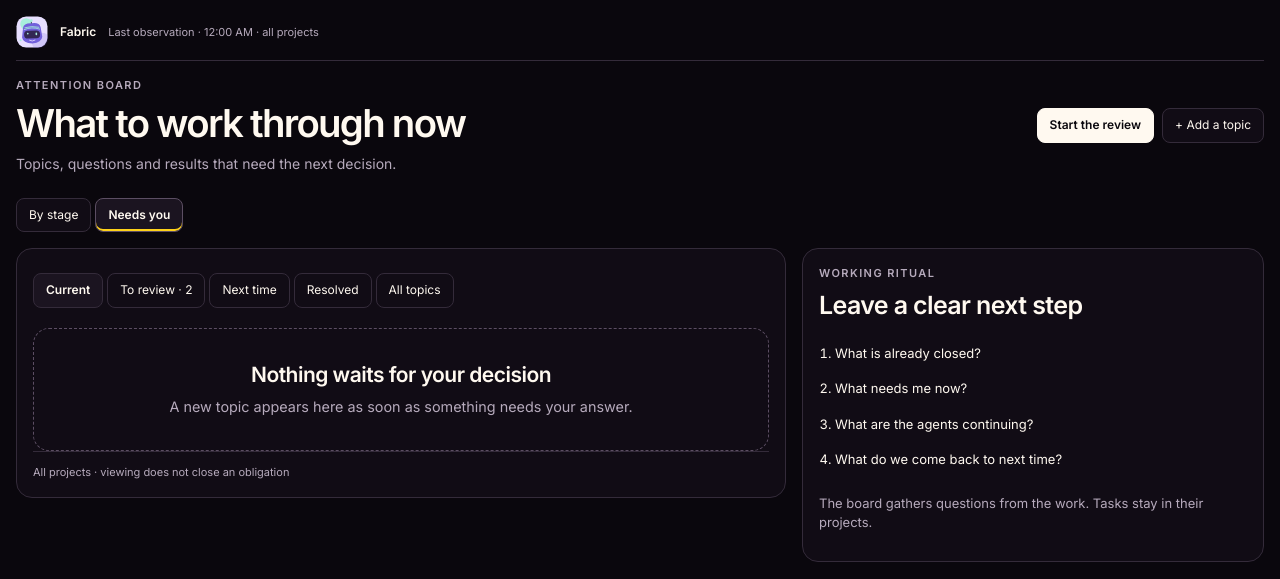
Test: an answer belongs to the row it was asked about › shows one proposal’s refusal on that proposal only
This screenshot has width=1280, height=579.
Click the button "To review · 2".
click(156, 291)  # box [107,273,206,308]
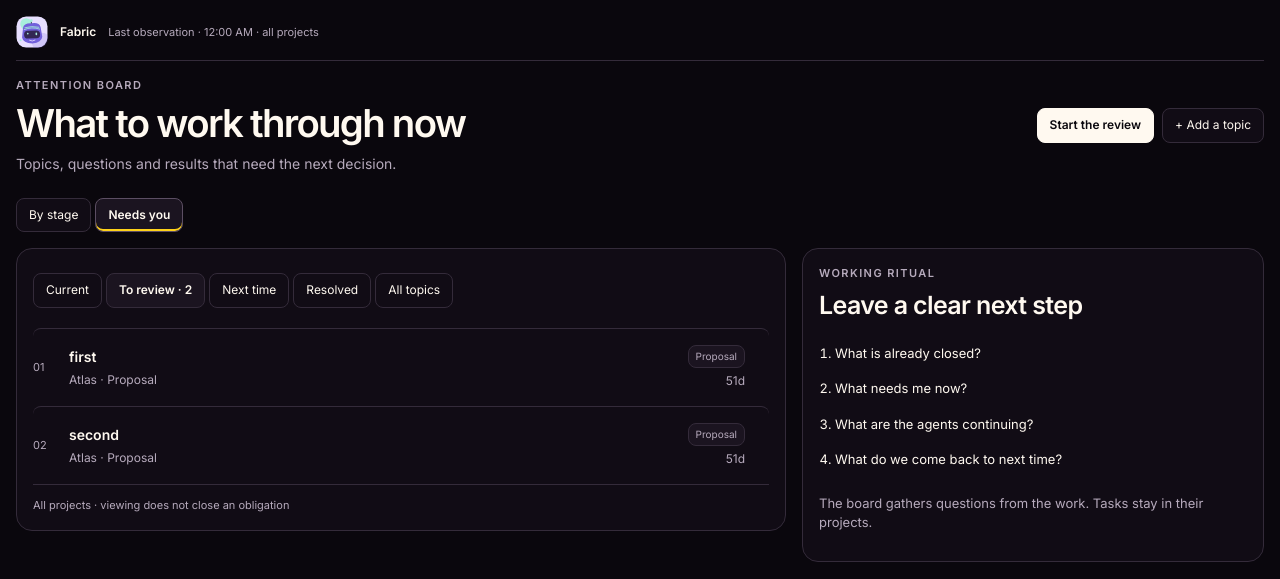
Click the text "first".
click(83, 357)  # box [69,348,96,365]
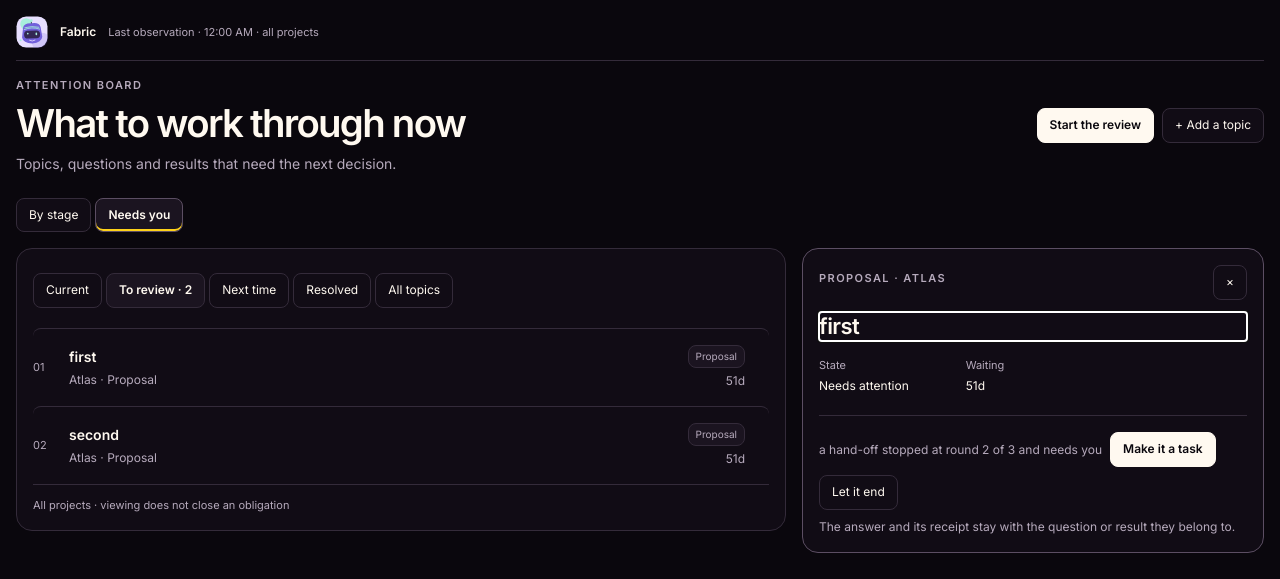
Click the button "Make it a task".
click(1163, 450)  # box [1110,432,1216,467]
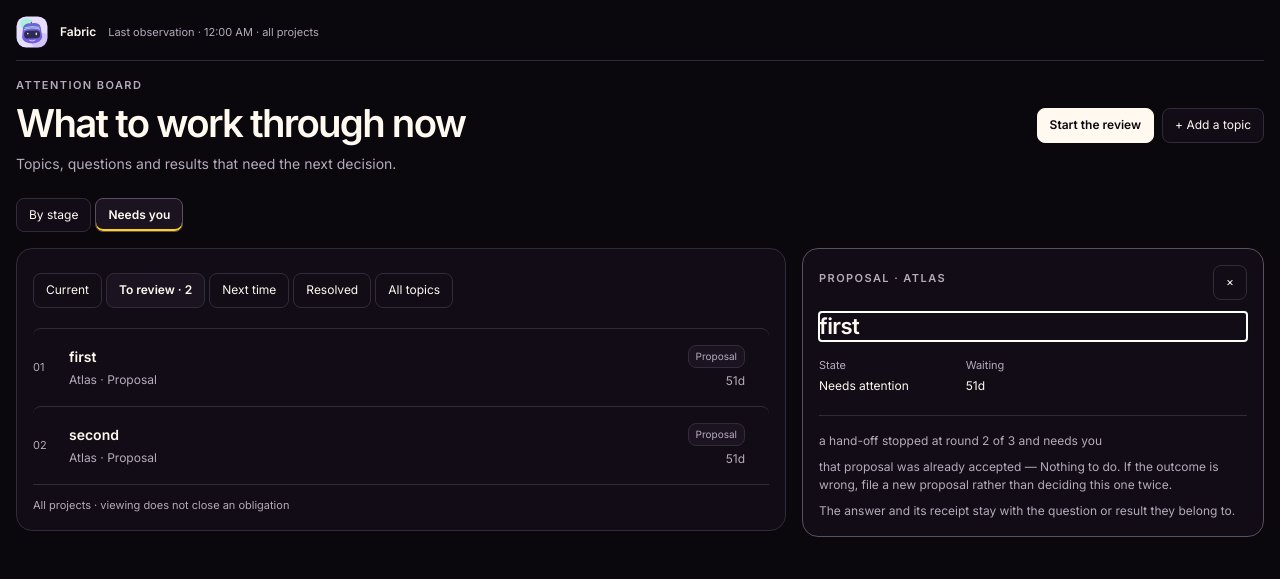
expect the number of messages is 1: met, box [819,458,1247,494]
Click the text "second".
click(94, 435)  # box [69,426,119,443]
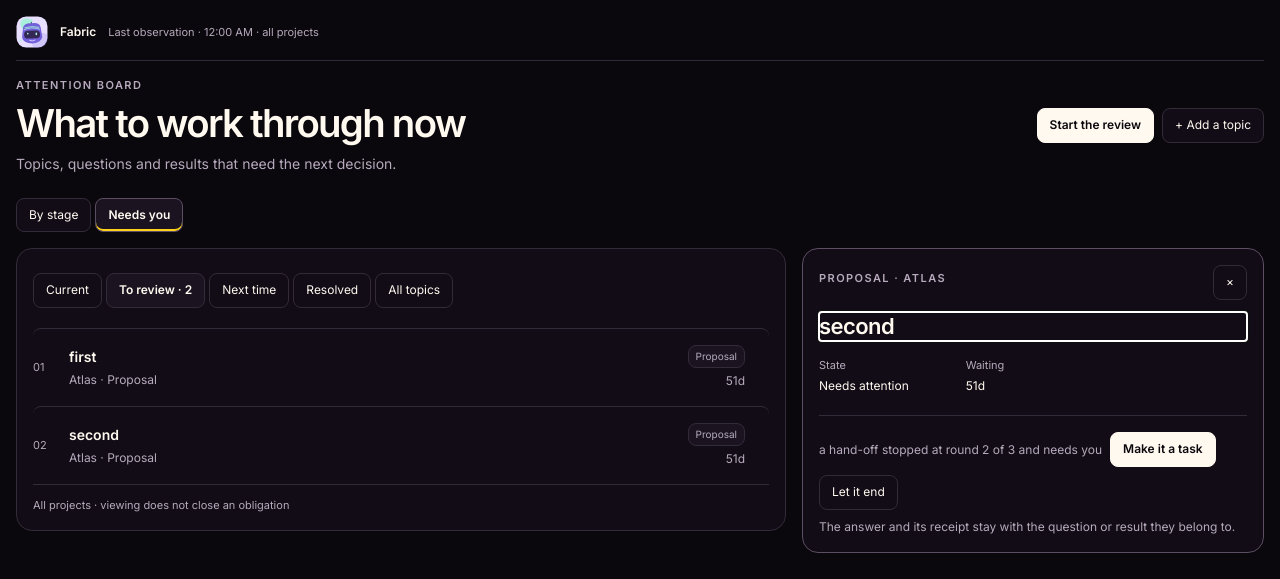
expect the button "Make it a task" is shown: met, box [1110,432,1216,467]
expect no messages are shown: met
Click the text "first".
click(83, 357)  # box [69,348,96,365]
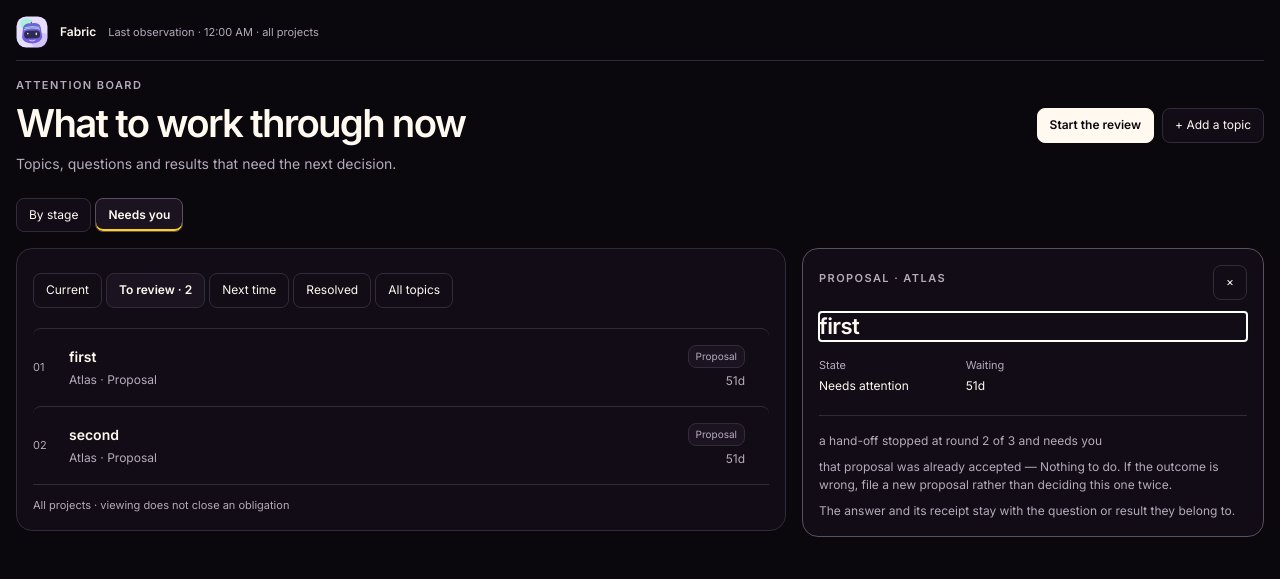
expect the number of messages is 1: met, box [819,458,1247,494]
